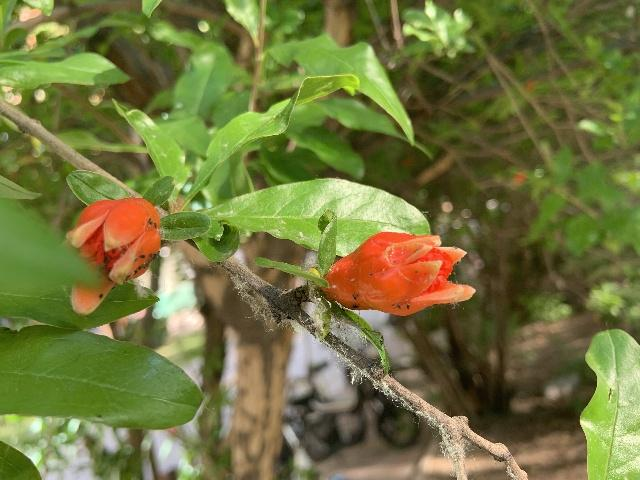flower: (323, 231, 476, 317), (66, 196, 161, 315)
